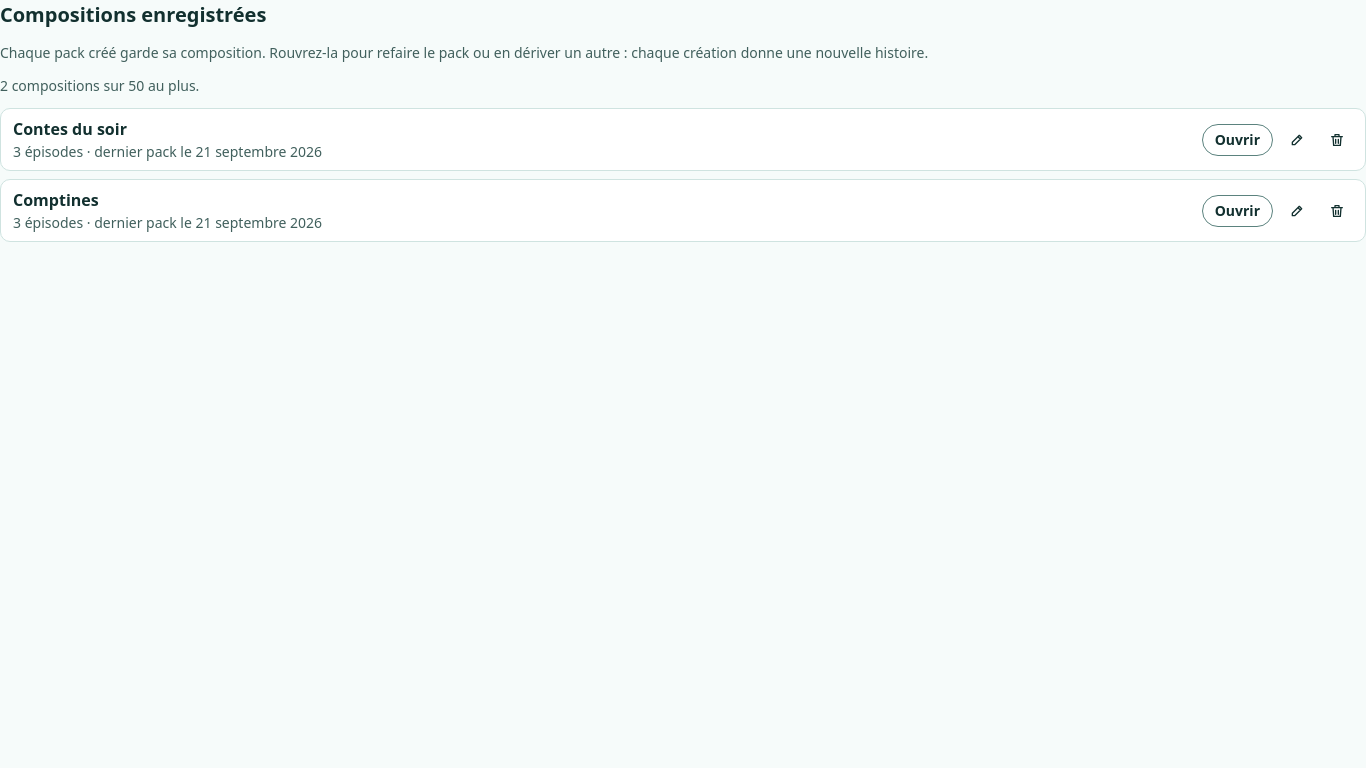
brouillon illisible : la confirmation est demandée par prudence
Click the button with aria-label "Ouvrir « Comptines » dans l'éditeur".
click(1237, 210)  # box x1=1202 y1=194 x2=1273 y2=226
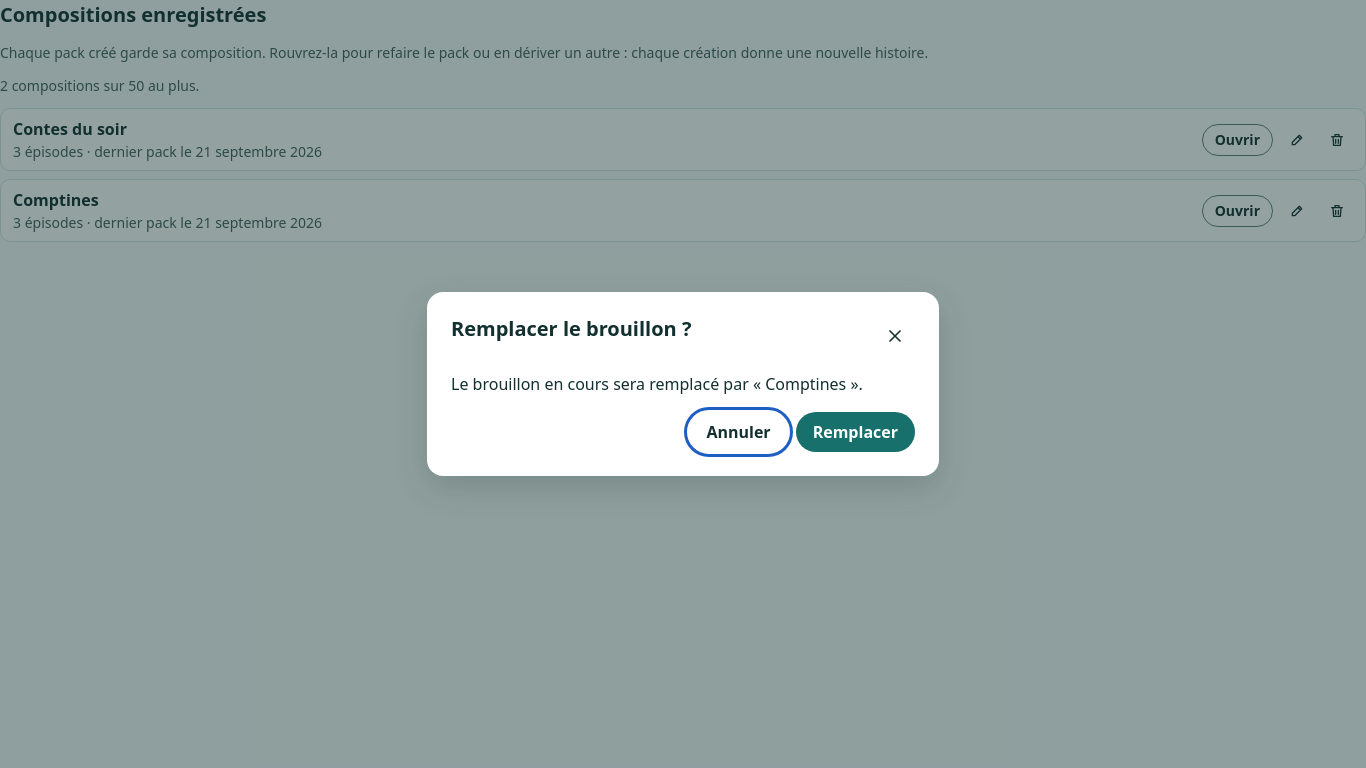
Now the dialog is shown, box x1=427 y1=292 x2=939 y2=476
